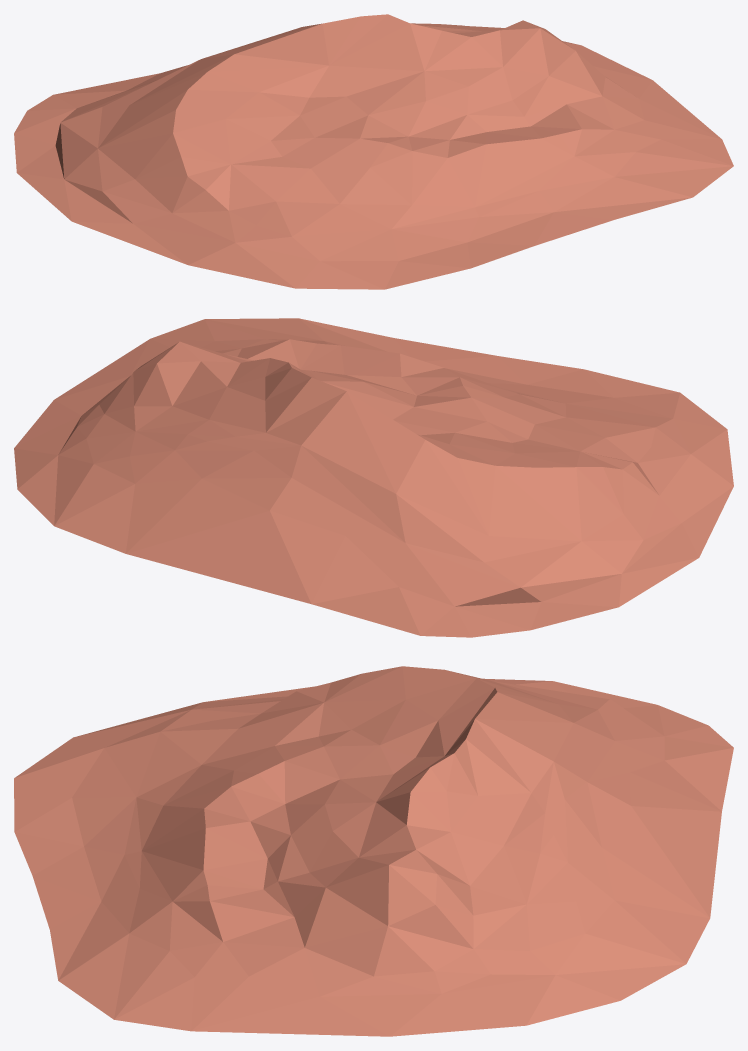
File: sand_002.fbx
3 renders of one model, top to bottom at view 1: azimuth 30°, elevation 25°; view 2: azimuth 150°, elevation 25°; view 3: azimuth 270°, elevation 25°, orthographic. The views are drawn at different scales.
Parts seen in each view (by area): view 1: sand_002; view 2: sand_002; view 3: sand_002.
Part boxes in pixels (x1,y1,x2,y2): sand_002: [14, 14, 733, 289]; sand_002: [14, 318, 733, 637]; sand_002: [14, 666, 733, 1036].
Size of the model in its own units: 3131 by 2639 by 546.
